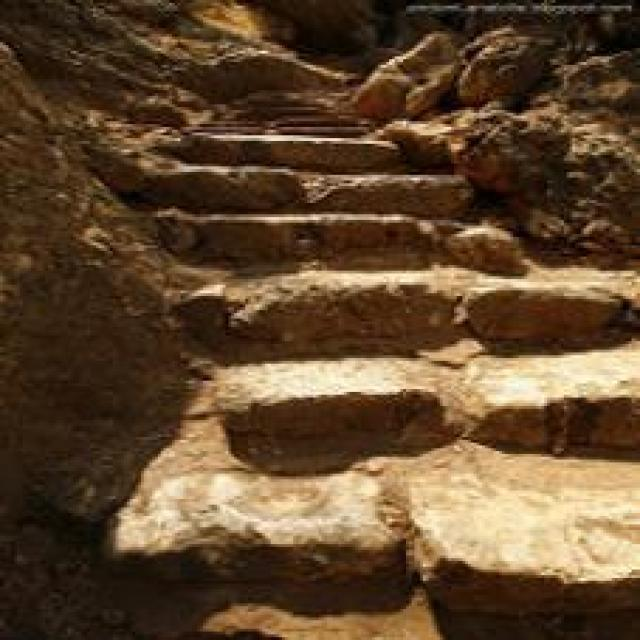stair: (167, 158, 632, 417)
